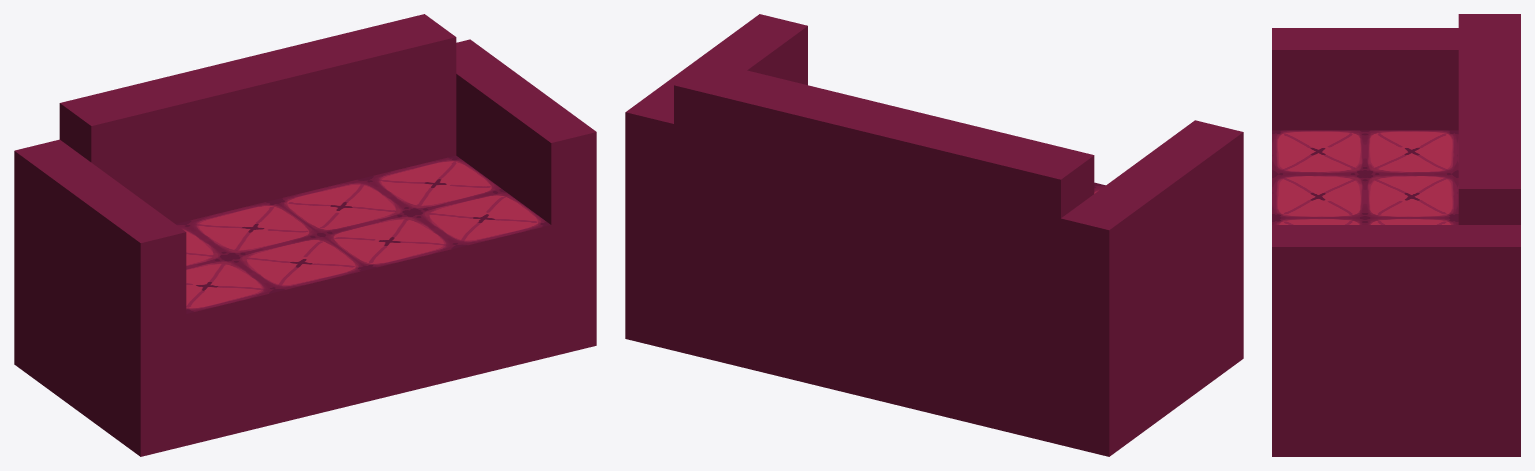
The model's file is Sofa2.fbx.
The picture shows the model from 3 angles, left to right: view 1: azimuth 30°, elevation 25°; view 2: azimuth 150°, elevation 25°; view 3: azimuth 270°, elevation 25°; orthographic projection. The views are drawn at different scales.
Parts seen in each view (by area): view 1: Cube; view 2: Cube; view 3: Cube.
Part boxes in pixels (x1,y1,x2,y2): Cube: [14, 14, 596, 456]; Cube: [625, 14, 1243, 456]; Cube: [1272, 14, 1520, 456].
Size of the model in its own units: 608 by 318 by 292.
